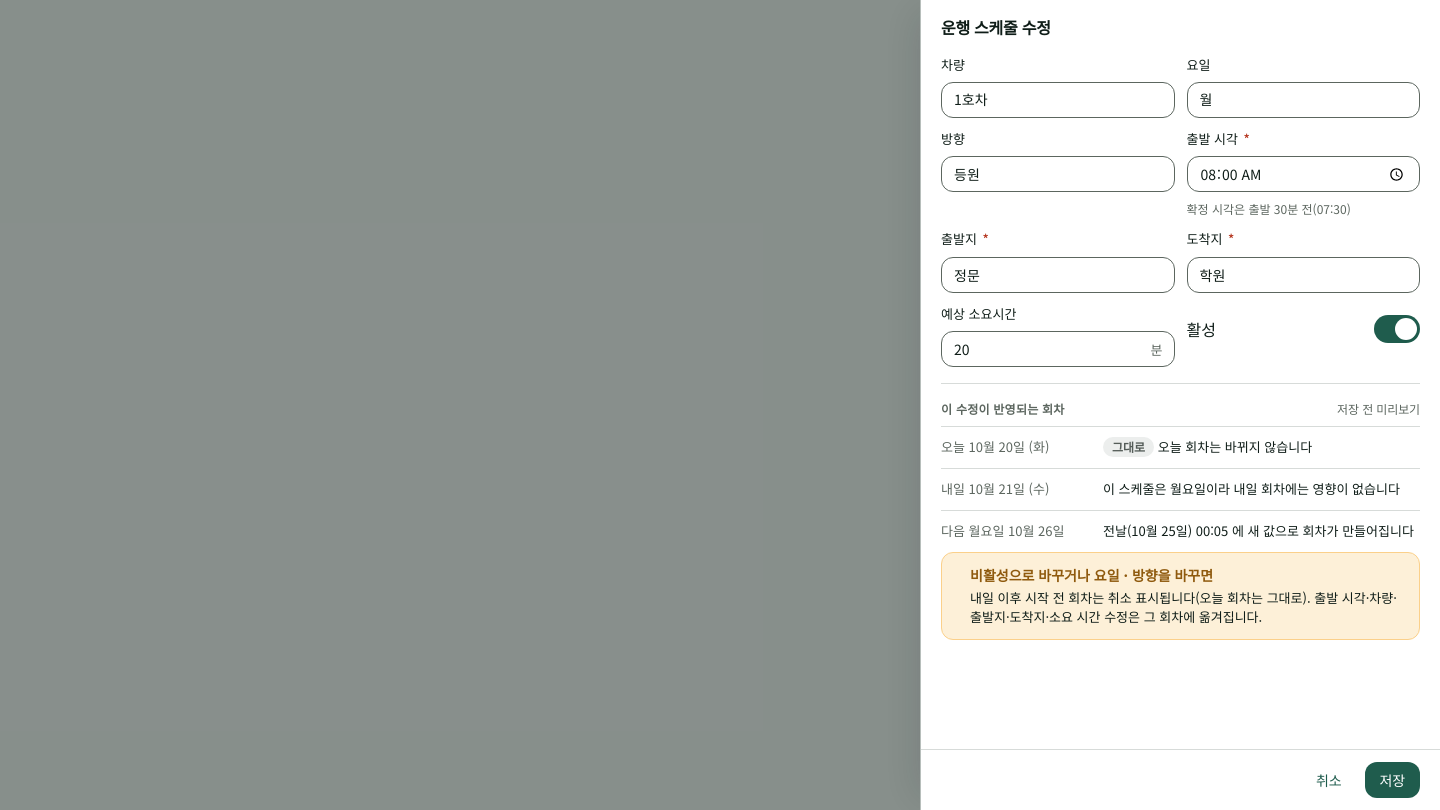
Scenario: ScheduleForm — 수정 반영 안내 › 409 DUPLICATE_RUN 이면 스케줄 변경이 전부 취소됐다는 전용 문구를 보여 준다
Click the button "저장".
click(1392, 780)  # box [1364,762,1420,798]
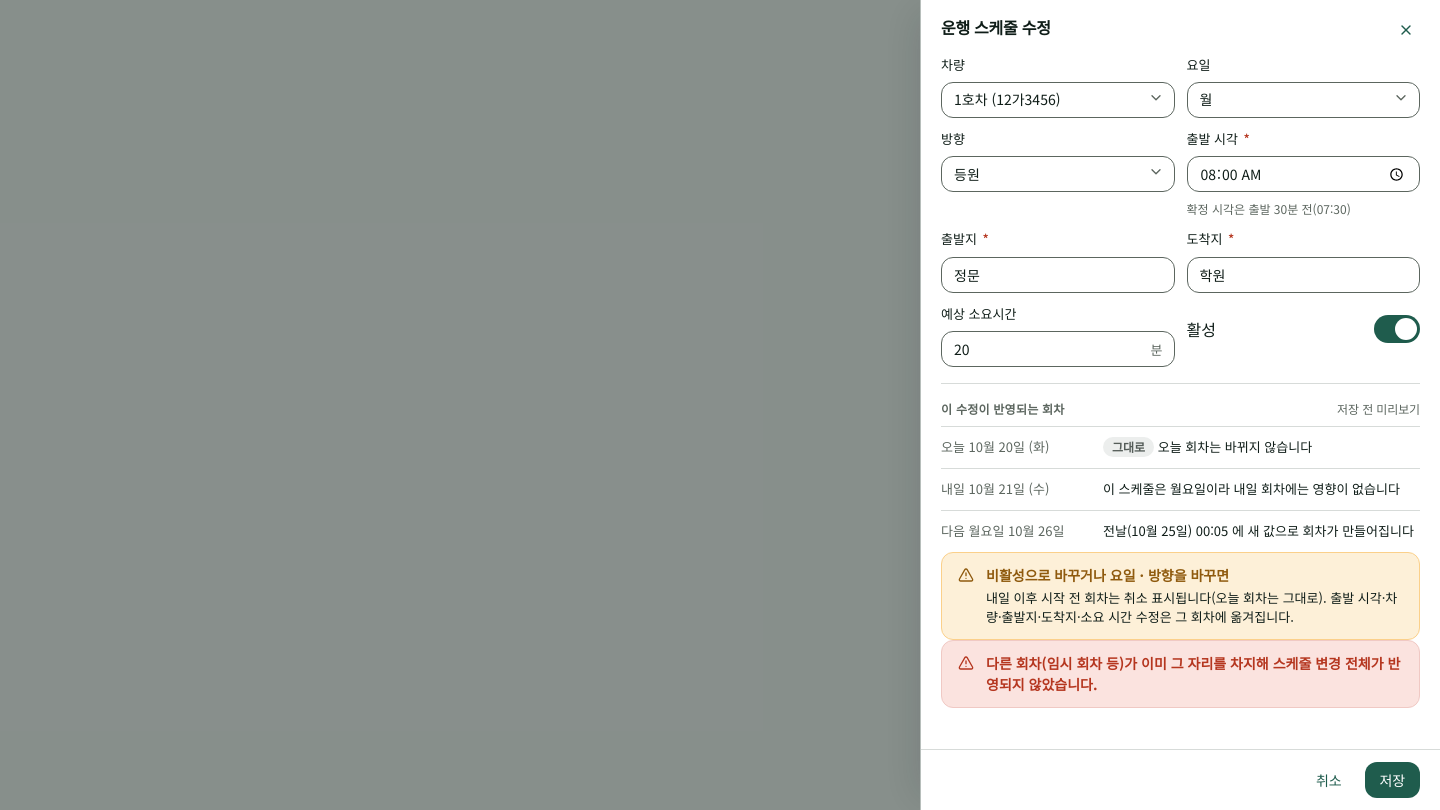
Now the text "다른 회차(임시 회차 등)가 이미 그 자리를 차지해 스케줄 변경 전체가 반영되지 않았습니다." is shown, box [986,653,1403,695]
